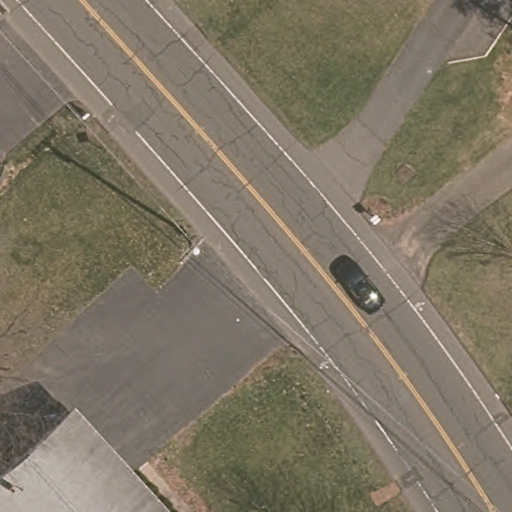DT: (171, 226, 215, 271)
